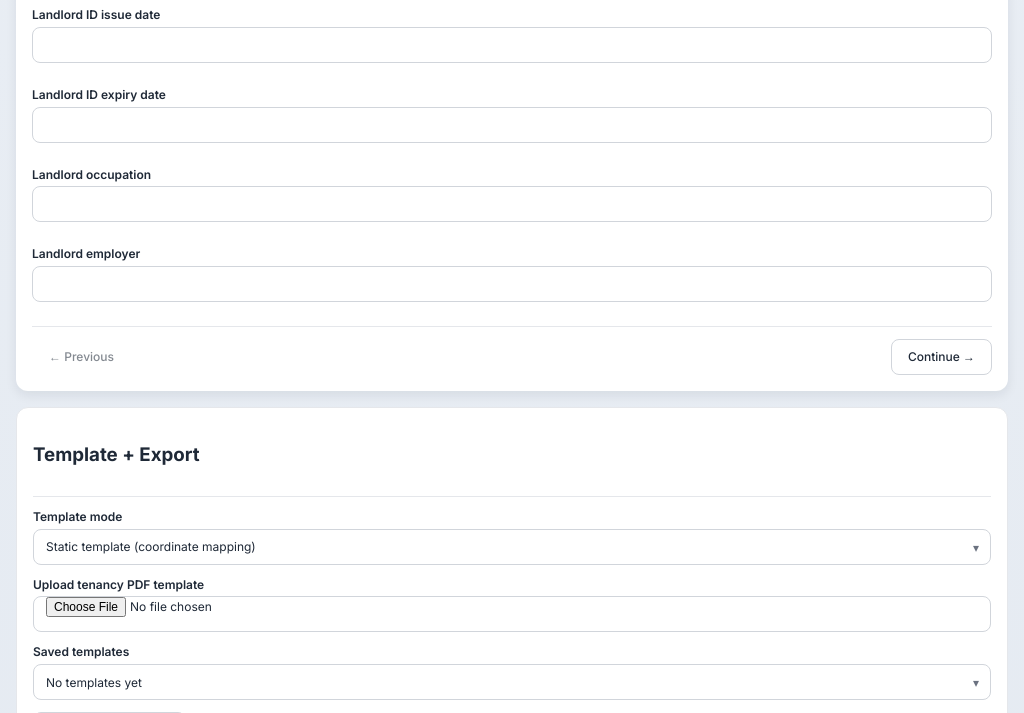
it: TenancyContractBuilderPage integration shell › toggles Previous button from disabled to enabled once user advances a step
The width and height of the screenshot is (1024, 713).
(page scrolled)
Expected: the button "← Previous" is disabled, [32,339,131,375]
Click the button "Continue →". click: (941, 357)
box: [891,339,992,375]
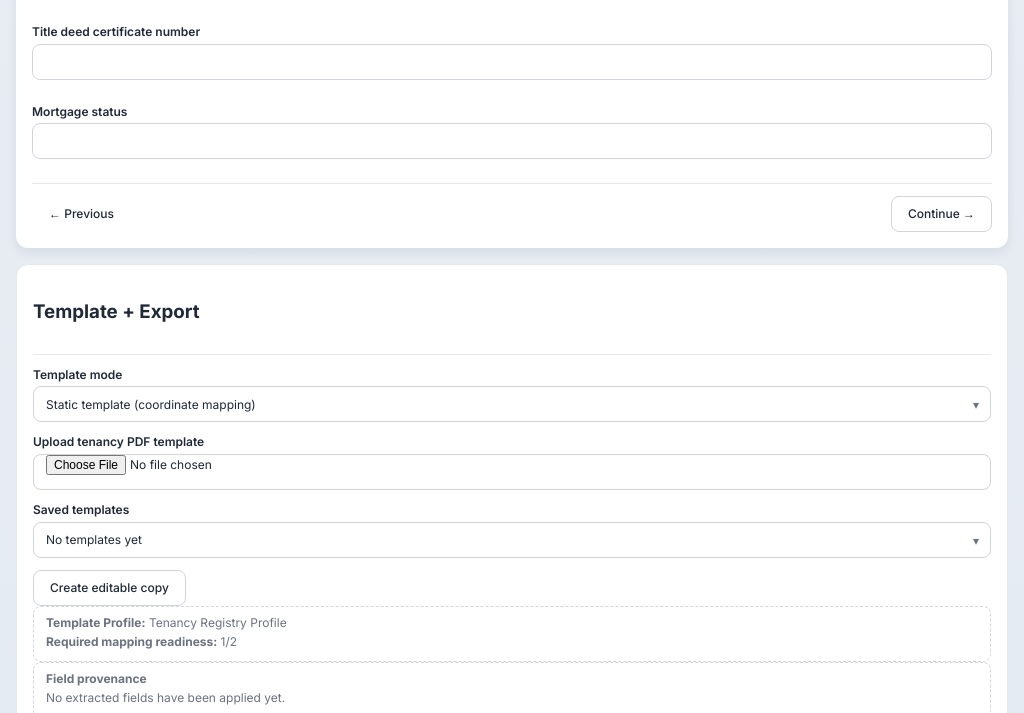
Expected: the button "← Previous" is enabled, [32,196,131,232]
